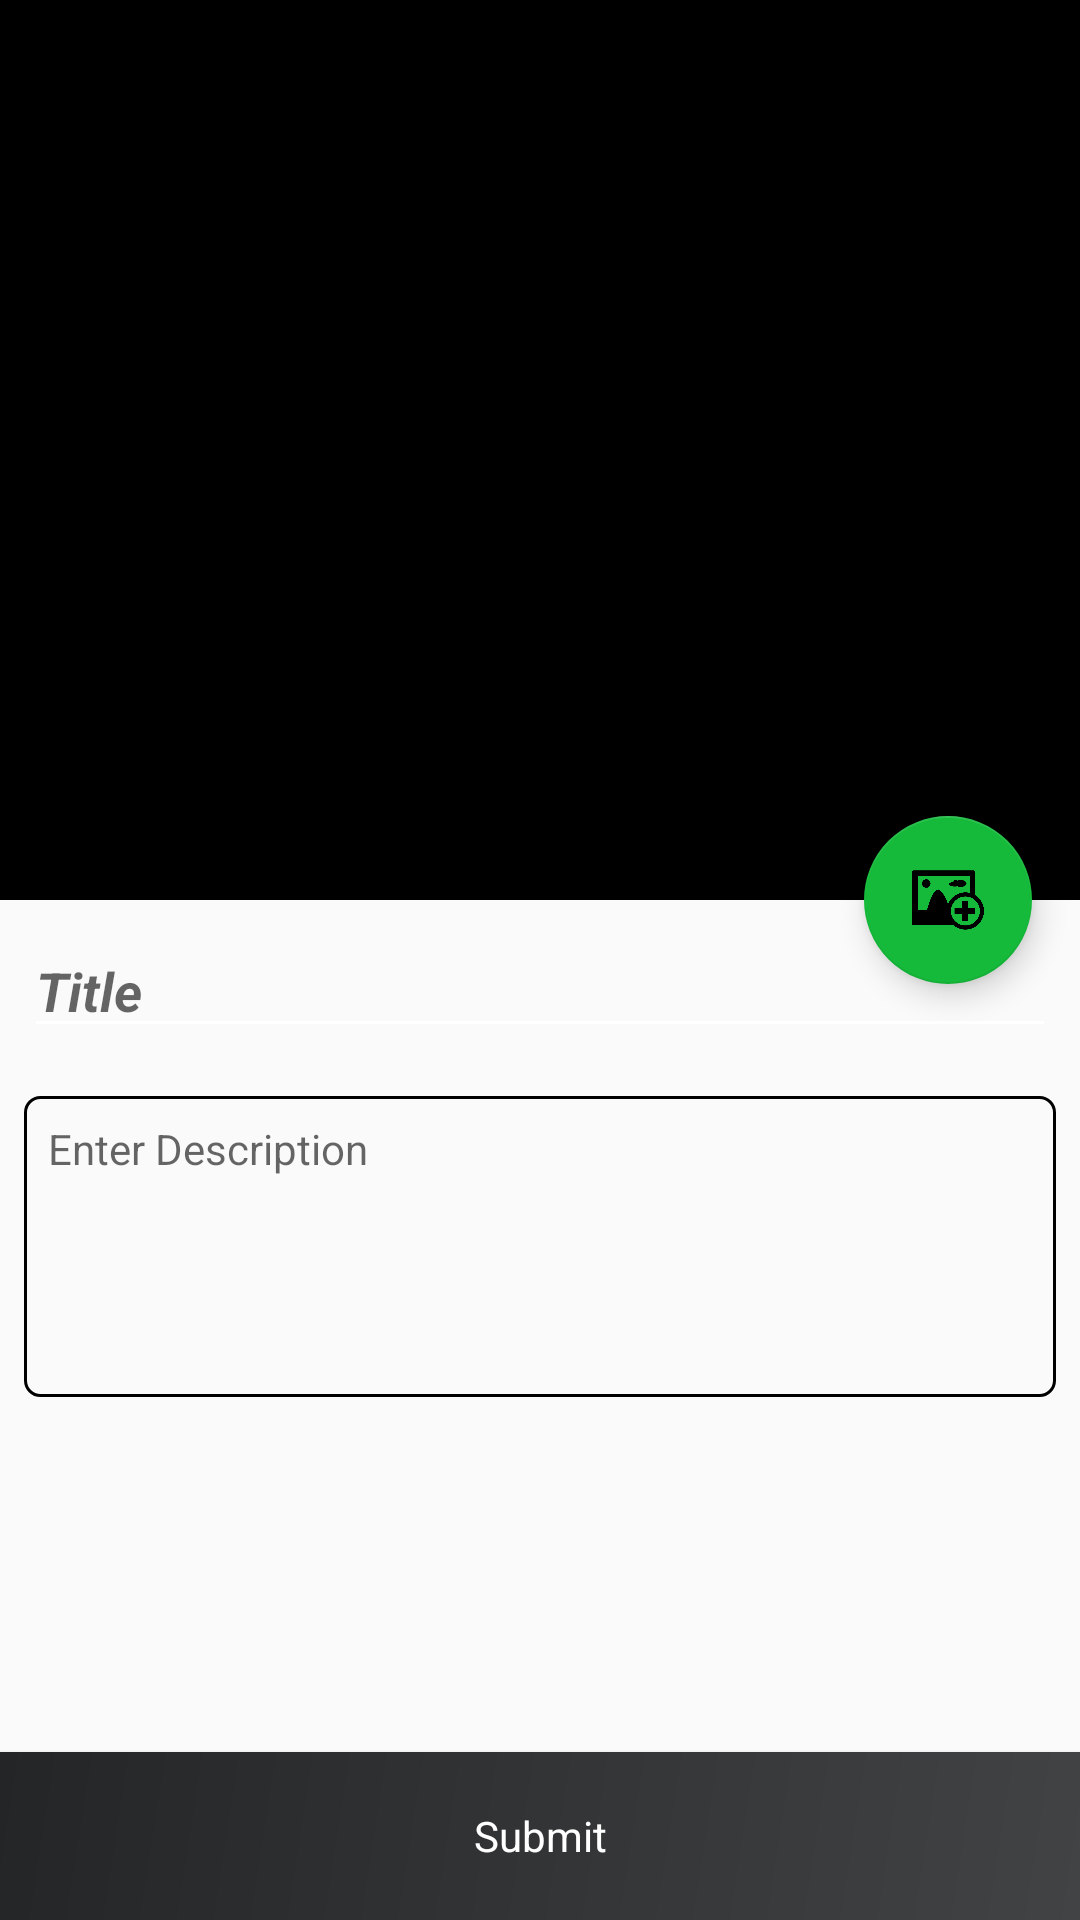

Named icons in this screenshot (1080×1920) and their centers, point (x, y):
add: point (948, 900)
